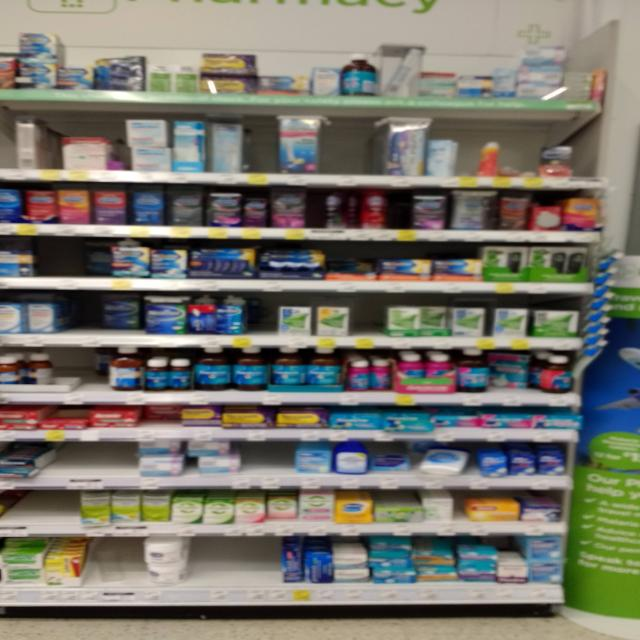empty: (181, 538, 279, 582), (85, 533, 149, 597), (324, 123, 388, 176), (49, 437, 140, 473), (242, 114, 286, 174), (340, 297, 397, 340), (39, 245, 106, 279), (236, 438, 292, 474), (503, 130, 552, 171), (53, 301, 104, 329), (241, 300, 283, 334)
